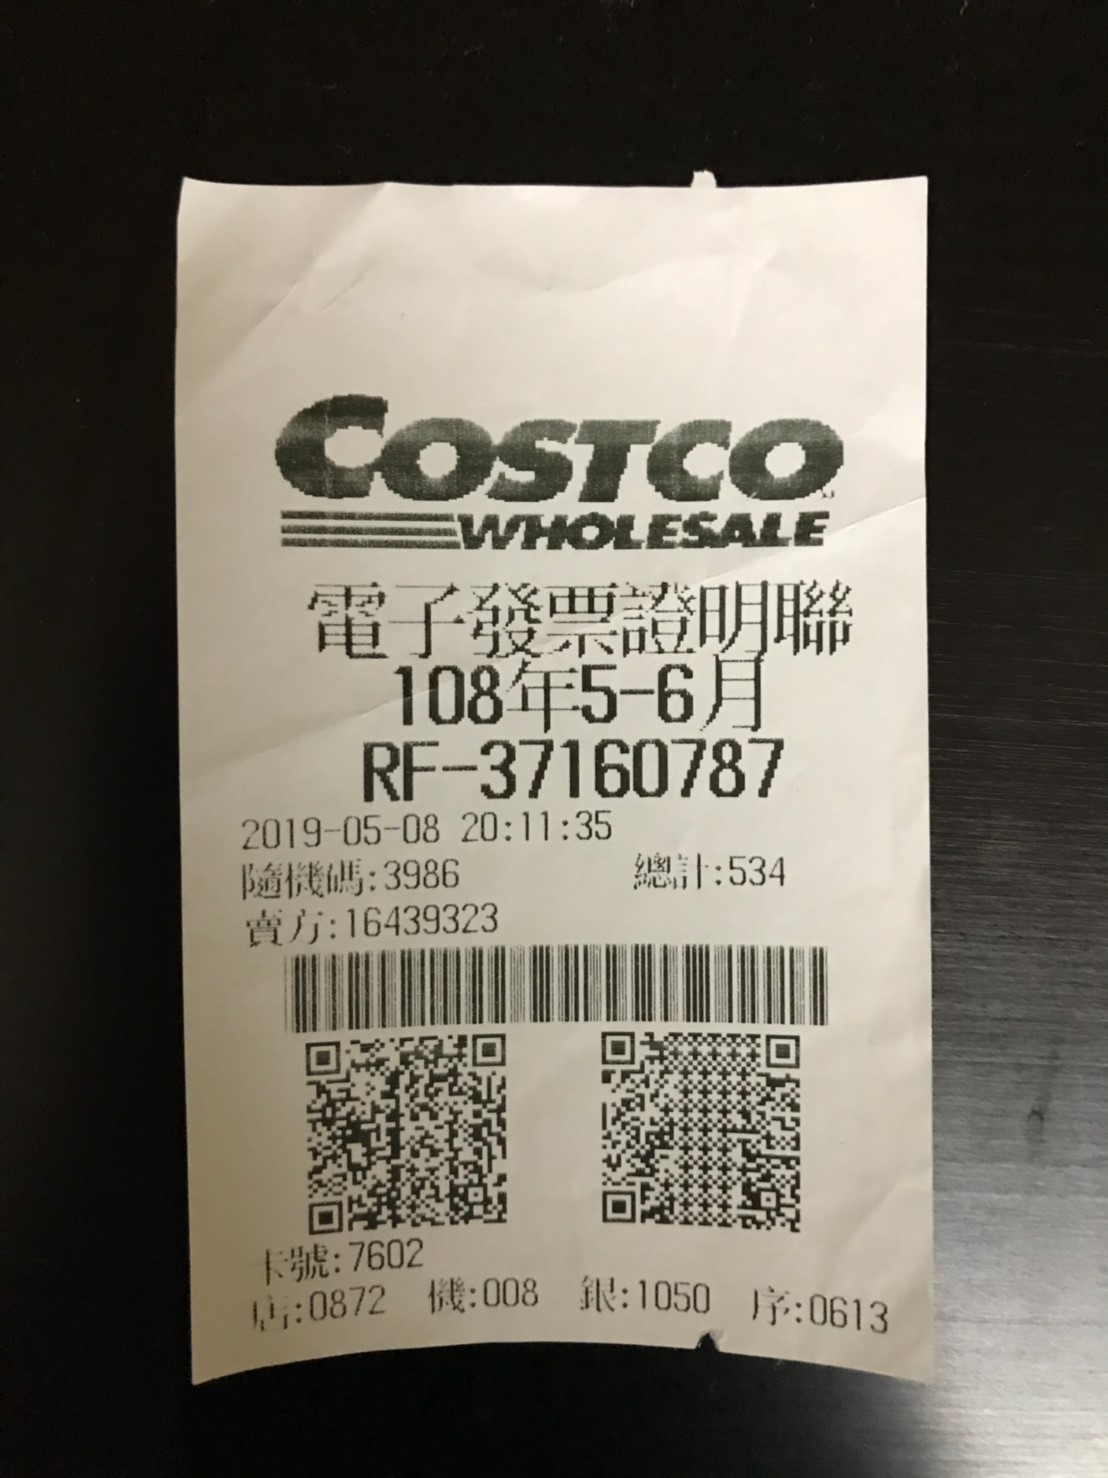Date_New: (388, 655, 766, 731)
Number_New: (475, 731, 794, 806)
